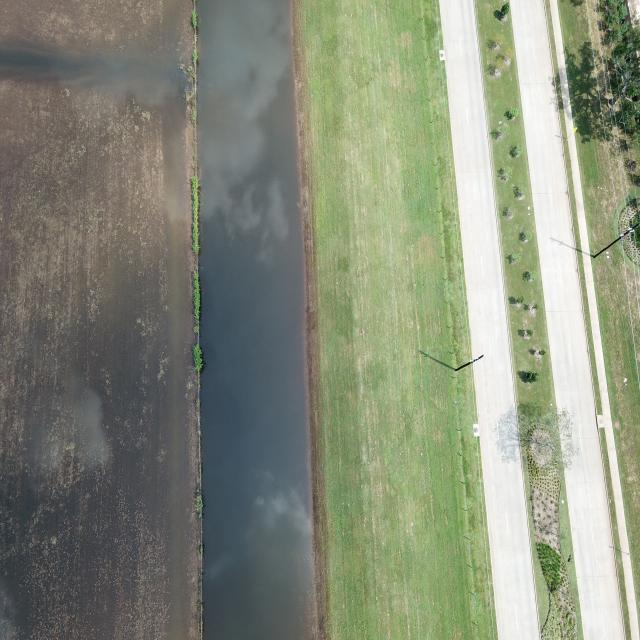fire: (197, 0, 314, 640)
